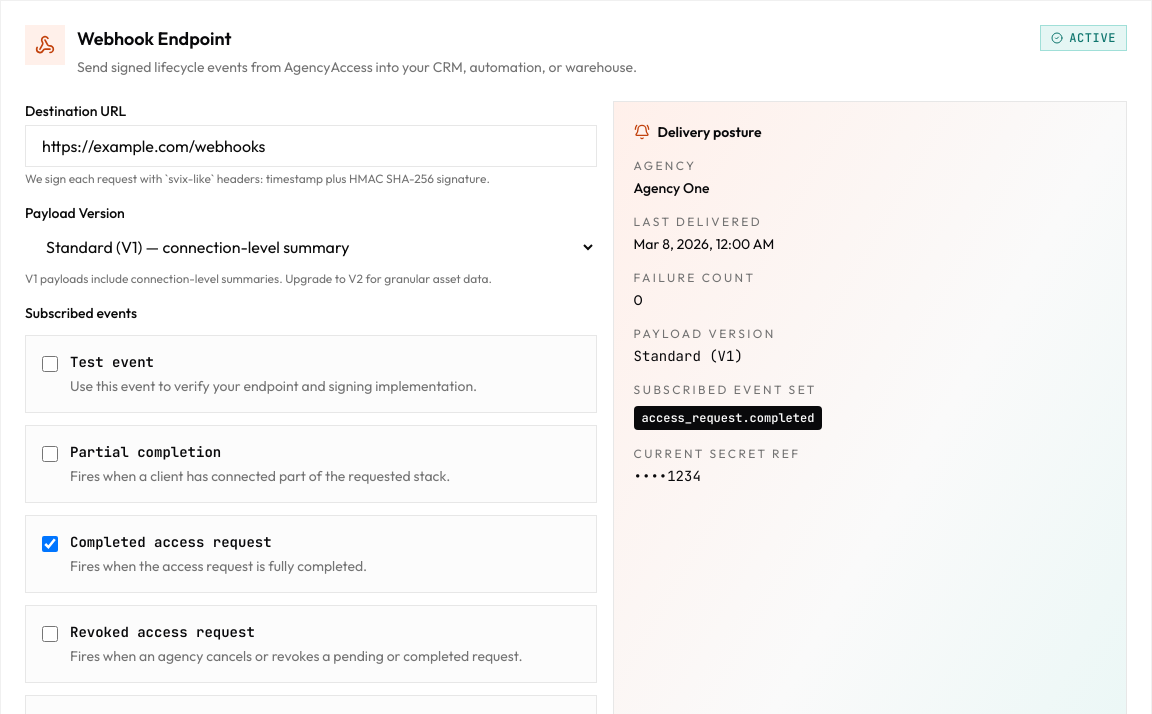
Scenario: WebhookSettingsTab › updates an existing endpoint without showing the signing secret again
This screenshot has width=1152, height=714.
Replace the text in the field labelled "Destination URL" with "https://hooks.example.com/updated". click: coordinates (311, 146)
box: [25, 125, 597, 167]
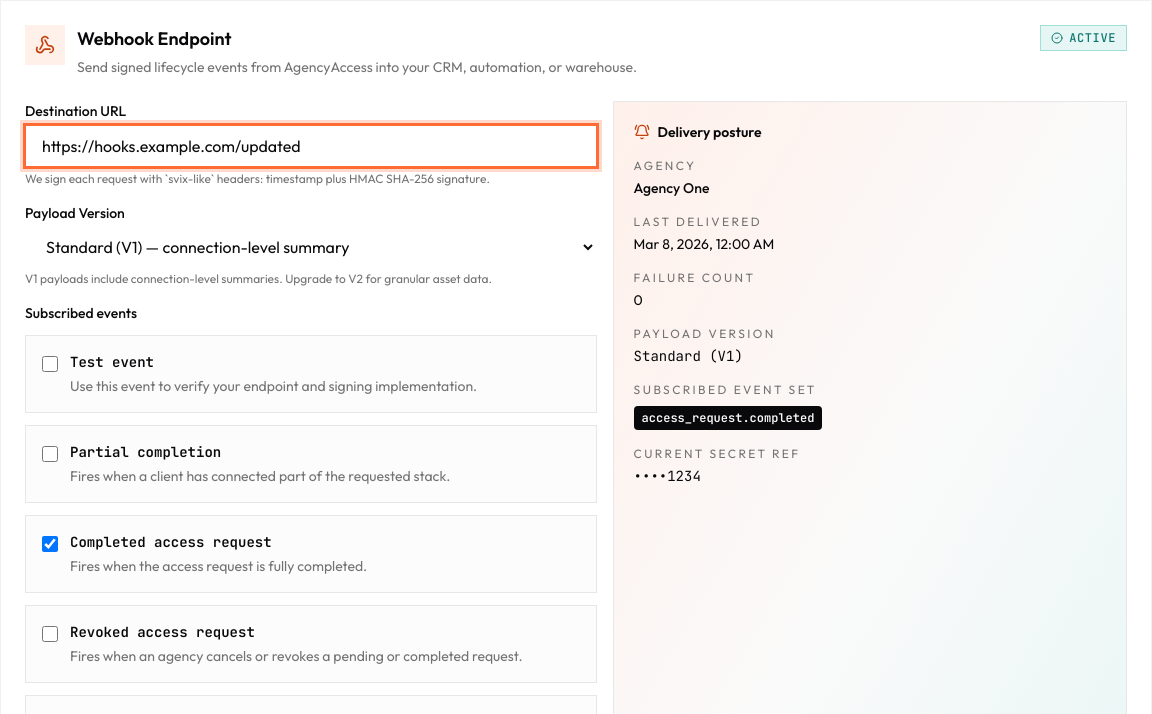
Click the checkbox named "webhook.test". click: coordinates (50, 364)
box: [42, 356, 58, 372]
(page scrolled)
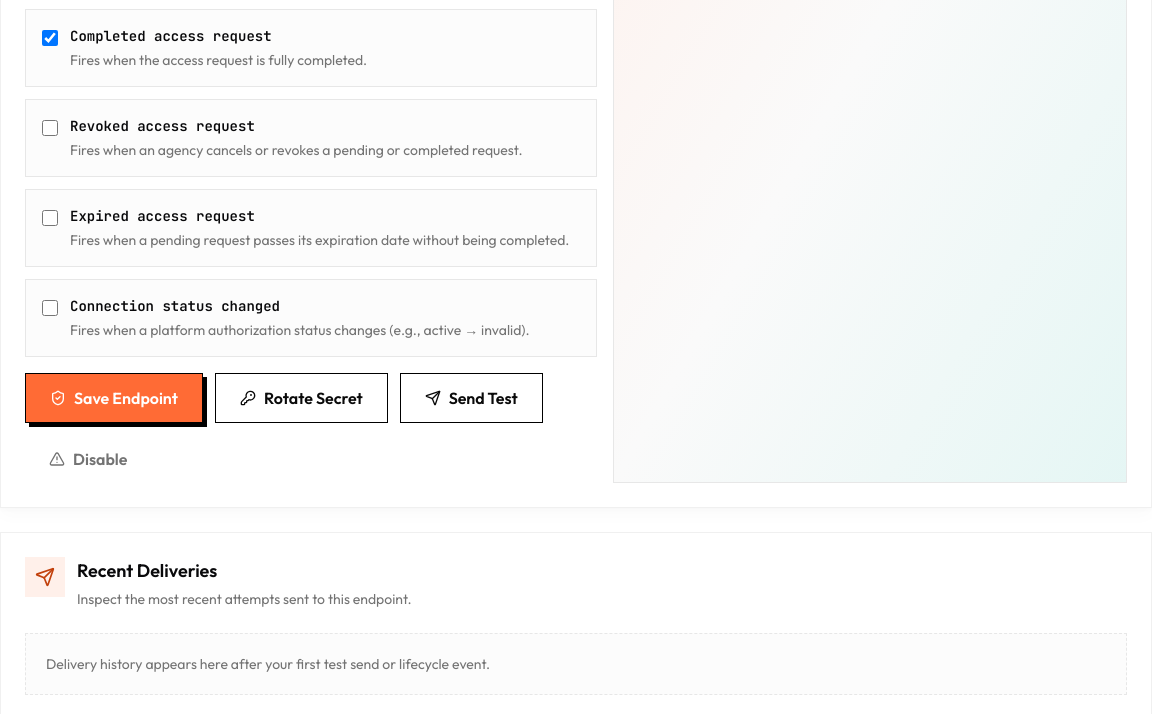
Click the button "Save Endpoint". click: coordinates (114, 398)
box: [25, 373, 203, 423]
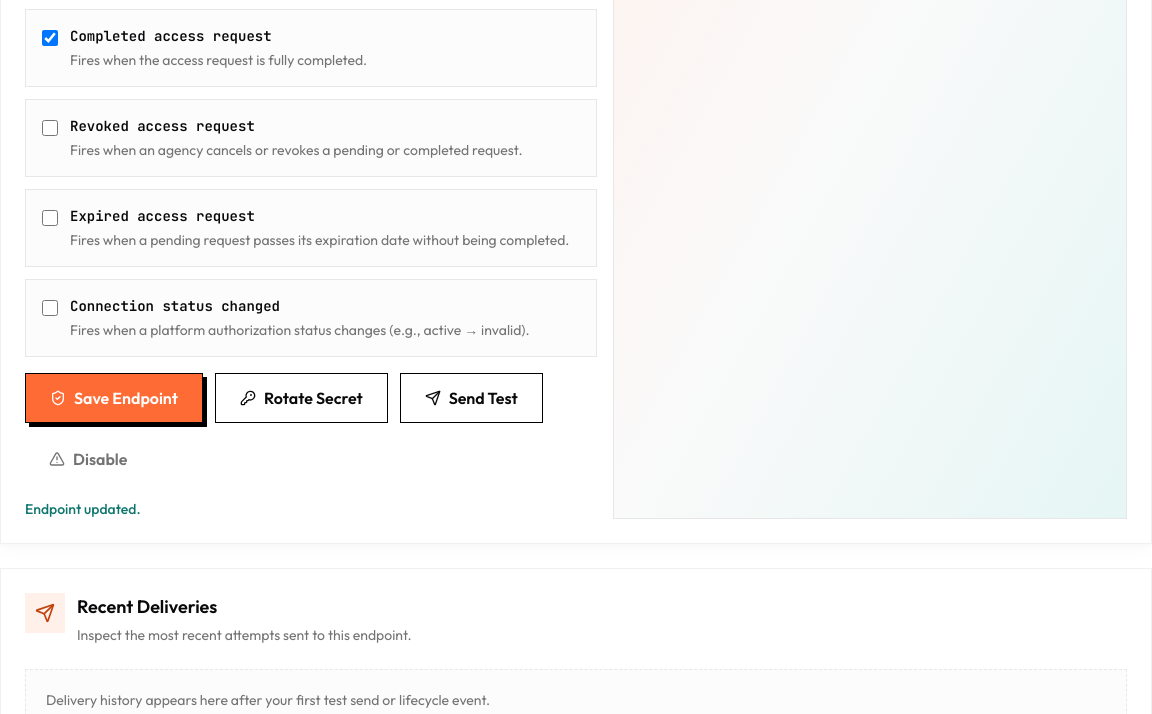
Result: the text "Endpoint updated." is shown at [25, 500, 140, 518]
